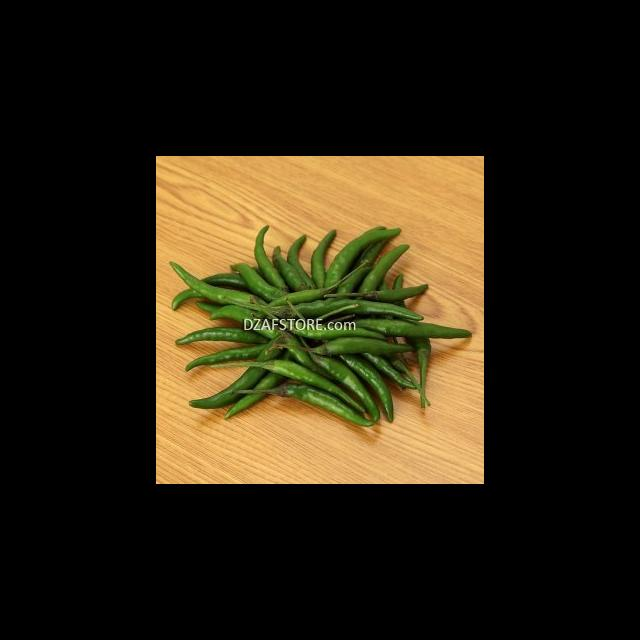chili_pepper: (325, 227, 402, 288), (312, 354, 381, 422), (252, 360, 356, 403), (285, 385, 374, 427), (340, 356, 393, 422), (295, 299, 424, 320), (356, 319, 473, 339), (313, 338, 413, 356)
